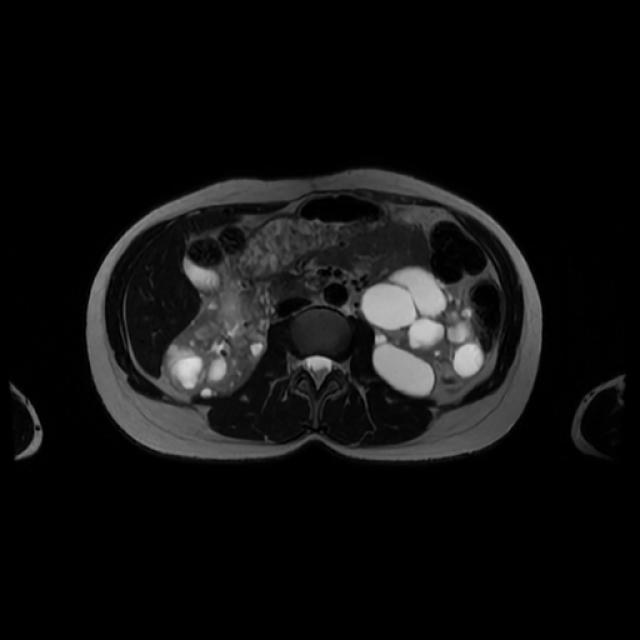sag: (167, 288, 270, 398)
sol: (363, 266, 482, 396)
